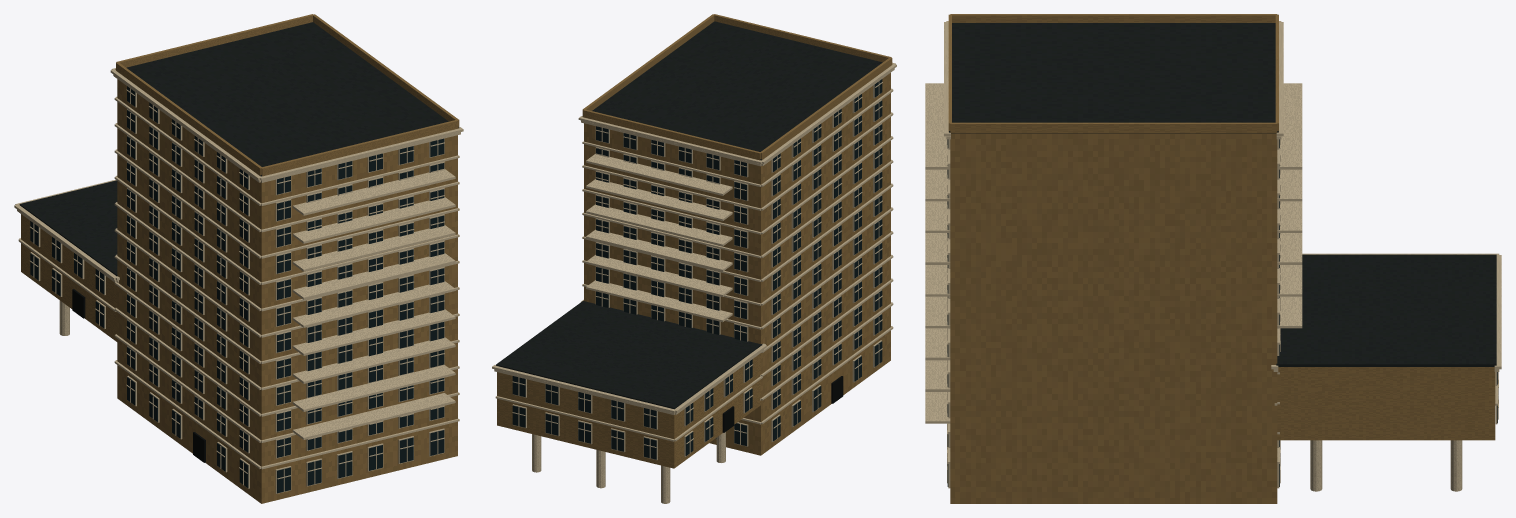
3 views of the same model, side by side, from view 1: azimuth 30°, elevation 25°; view 2: azimuth 150°, elevation 25°; view 3: azimuth 270°, elevation 25° (orthographic). The views are drawn at different scales.
Visible parts, largest first — view 1: erasmushuis-1, erasmushuis-0, erasmushuis-2, erasmushuis-3, erasmushuis-4; view 2: erasmushuis-1, erasmushuis-0, erasmushuis-2, erasmushuis-3, erasmushuis-4; view 3: erasmushuis-1, erasmushuis-2, erasmushuis-0.
Boxes of the visible parts, left/top/right/bottom form: erasmushuis-1: left=21, top=14, right=459, bottom=503; erasmushuis-0: left=14, top=68, right=463, bottom=493; erasmushuis-2: left=19, top=22, right=459, bottom=276; erasmushuis-3: left=30, top=86, right=444, bottom=493; erasmushuis-4: left=72, top=289, right=205, bottom=462; erasmushuis-1: left=497, top=14, right=892, bottom=468; erasmushuis-0: left=492, top=62, right=896, bottom=503; erasmushuis-2: left=496, top=21, right=882, bottom=409; erasmushuis-3: left=512, top=79, right=882, bottom=459; erasmushuis-4: left=722, top=376, right=843, bottom=432; erasmushuis-1: left=948, top=14, right=1495, bottom=503; erasmushuis-2: left=949, top=23, right=1496, bottom=366; erasmushuis-0: left=925, top=21, right=1501, bottom=491.
Bounding box in the file's own units: 22.87 × 35.95 × 49.33.
5 materials, 5 textured.
